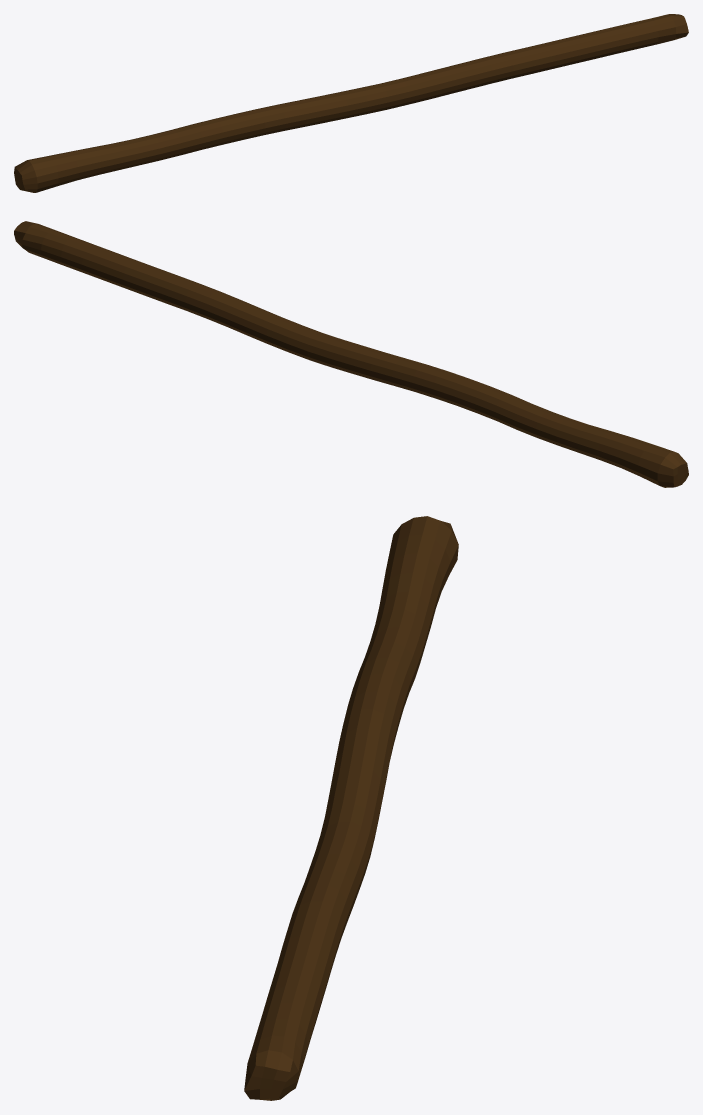
Rendered from Obstacle2Tree.glb.
3 renders of one model, top to bottom at view 1: azimuth 30°, elevation 25°; view 2: azimuth 150°, elevation 25°; view 3: azimuth 270°, elevation 25°, orthographic. The views are drawn at different scales.
Visible parts, largest first — view 1: Retopo_TRONC FIN; view 2: Retopo_TRONC FIN; view 3: Retopo_TRONC FIN.
Boxes of the visible parts, x1,y1,x2,y2 form: Retopo_TRONC FIN: (14, 14, 688, 192); Retopo_TRONC FIN: (14, 221, 688, 487); Retopo_TRONC FIN: (244, 516, 458, 1100).
Size of the model in its own units: 4.83 by 0.4253 by 0.7155.
Materials: 1 (1 with a texture image).
